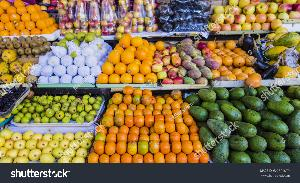apple: (1, 128, 96, 164), (57, 0, 157, 34), (14, 90, 104, 126), (212, 1, 300, 32), (153, 40, 180, 86)
avocado: (196, 86, 300, 164)
orange: (94, 88, 195, 166), (97, 36, 157, 84), (0, 0, 58, 36)
